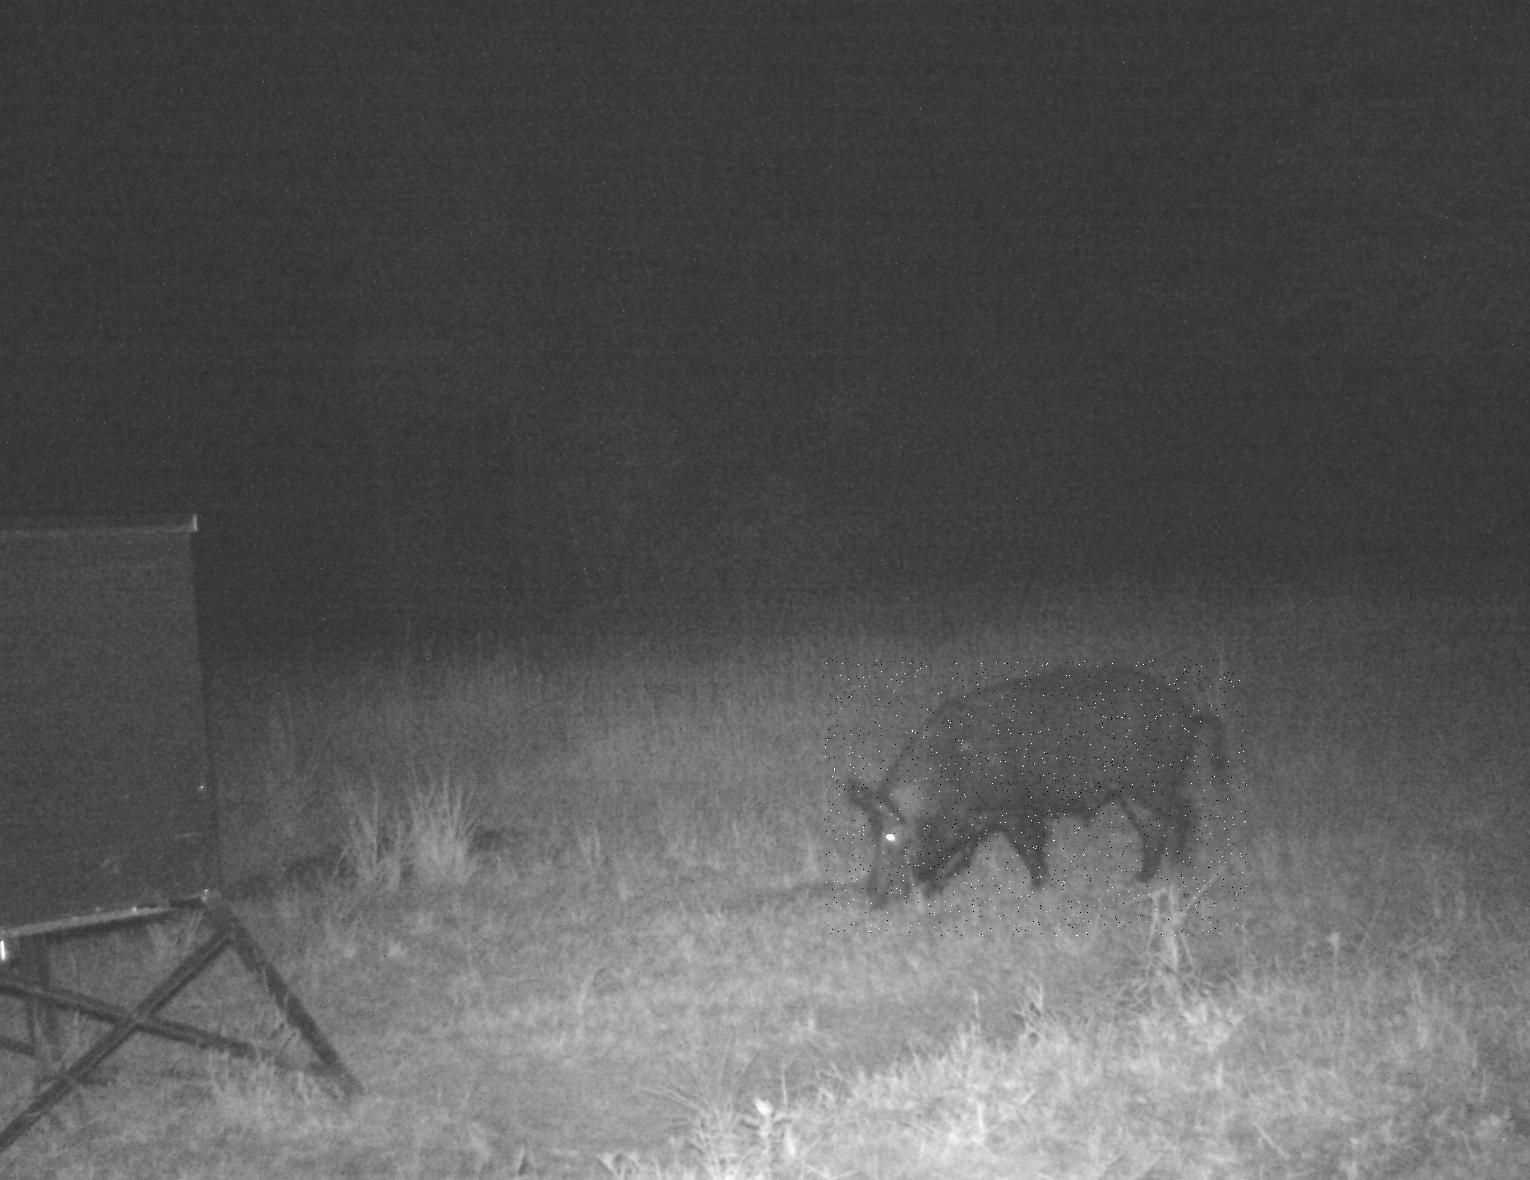Hog: (823, 659, 1248, 936)
